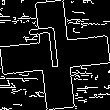L_S: (37, 29, 73, 81)
